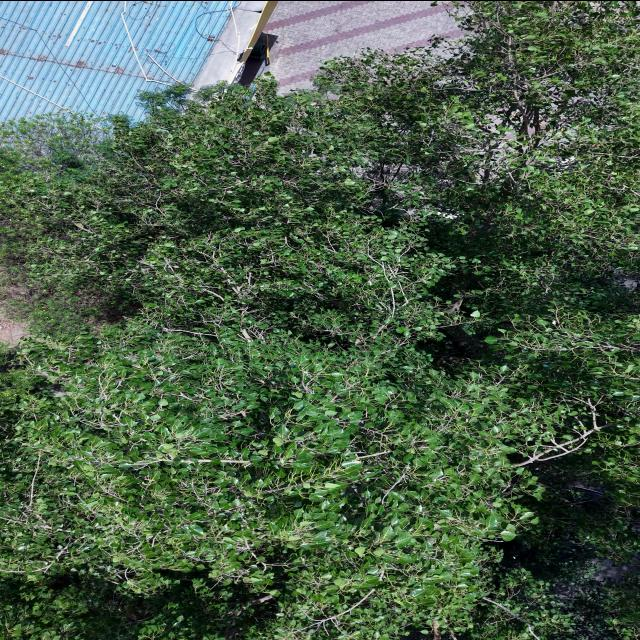DRY_AREA: (264, 1, 466, 92), (0, 268, 28, 345), (0, 309, 28, 345)
ROOFTOP_BUILDING: (0, 1, 265, 120)
VEGETATION_TREE: (0, 1, 639, 639)
